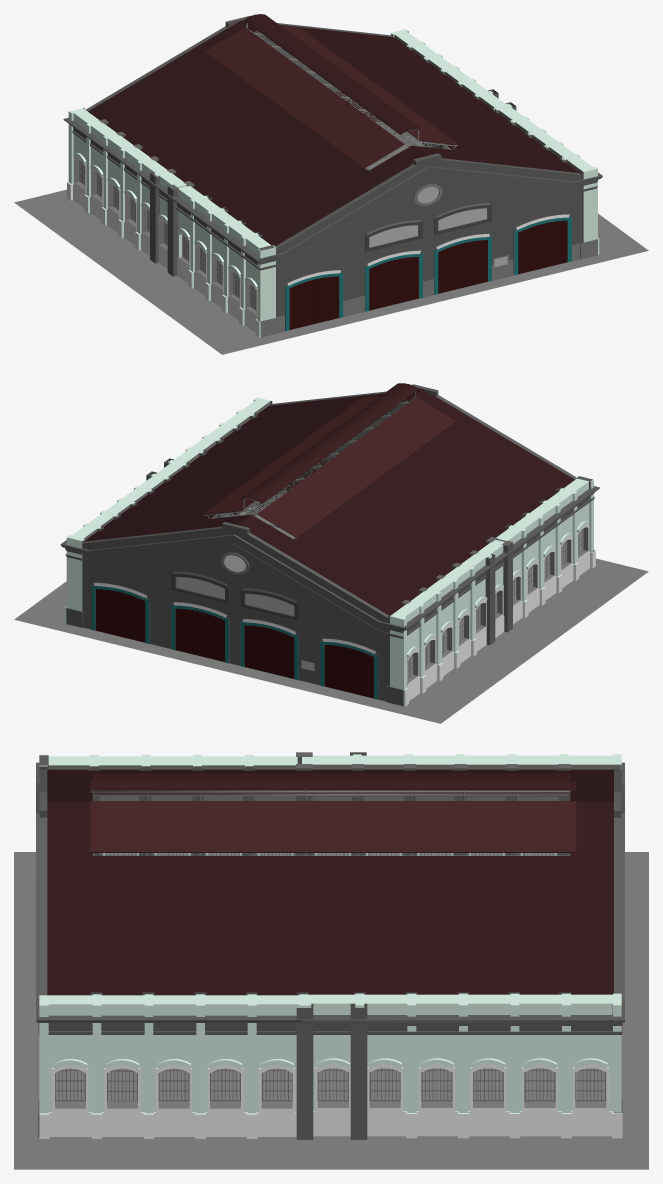
Rendered from gudang-optimized.glb.
3 views of the same model, one above another, from view 1: azimuth 30°, elevation 25°; view 2: azimuth 150°, elevation 25°; view 3: azimuth 270°, elevation 25° (orthographic). The views are drawn at different scales.
Visible parts, largest first — view 1: _gltfNode_1035, _gltfNode_332, _gltfNode_267, _gltfNode_1033, _gltfNode_494, _gltfNode_478, _gltfNode_264, _gltfNode_269, _gltfNode_496, _gltfNode_359, _gltfNode_391, _gltfNode_393 (+20 smaller); view 2: _gltfNode_1035, _gltfNode_269, _gltfNode_267, _gltfNode_1033, _gltfNode_494, _gltfNode_478, _gltfNode_332, _gltfNode_264, _gltfNode_496, _gltfNode_328, _gltfNode_326, _gltfNode_330 (+20 smaller); view 3: _gltfNode_1033, _gltfNode_267, _gltfNode_496, _gltfNode_269, _gltfNode_478, _gltfNode_332, _gltfNode_264, _gltfNode_1035, _gltfNode_150, _gltfNode_162, _gltfNode_184, _gltfNode_172 (+33 smaller).
Part boxes in pixels (x1,y1,x2,y2): _gltfNode_1035: (88,20,424,246); _gltfNode_332: (167,153,602,333); _gltfNode_267: (14,189,648,354); _gltfNode_1033: (240,19,580,173); _gltfNode_494: (205,27,404,168); _gltfNode_478: (244,14,421,134); _gltfNode_264: (99,45,566,276); _gltfNode_269: (63,15,408,201); _gltfNode_496: (281,26,459,144); _gltfNode_359: (289,276,338,329); _gltfNode_391: (438,240,487,293); _gltfNode_393: (518,220,567,273); _gltfNode_1035: (238,389,574,615); _gltfNode_269: (60,522,511,705); _gltfNode_267: (14,558,648,723); _gltfNode_1033: (85,388,422,541); _gltfNode_494: (257,397,456,537); _gltfNode_478: (241,383,418,503); _gltfNode_332: (270,384,599,558); _gltfNode_264: (97,413,563,645); _gltfNode_496: (202,396,380,514); _gltfNode_328: (244,625,294,678); _gltfNode_326: (175,608,224,661); _gltfNode_330: (324,645,373,698); _gltfNode_1033: (47,802,613,995); _gltfNode_267: (14,852,648,1169); _gltfNode_496: (90,801,576,852); _gltfNode_269: (302,762,624,1113); _gltfNode_478: (93,772,570,789); _gltfNode_332: (36,755,301,1137); _gltfNode_264: (88,752,571,1139); _gltfNode_1035: (47,769,619,802); _gltfNode_150: (39,994,102,1114); _gltfNode_162: (101,994,154,1114); _gltfNode_184: (203,994,257,1114); _gltfNode_172: (152,994,205,1114).
Bounding box in the file's own units: 8.27 × 2.86 × 6.99.
